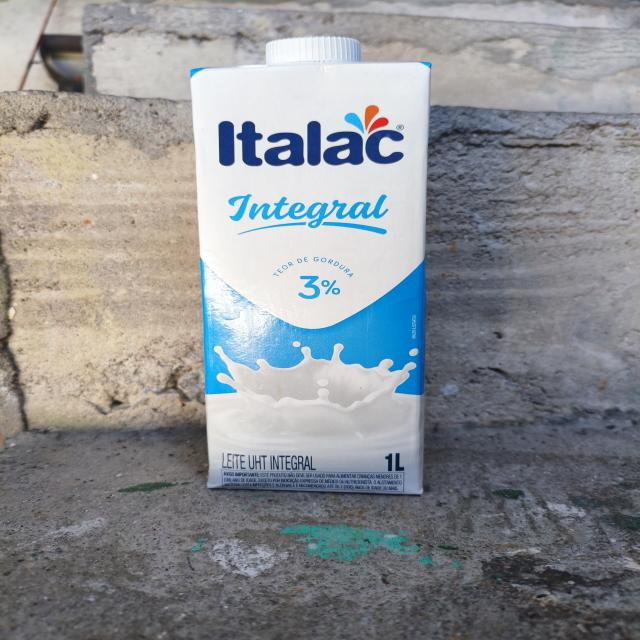Caixa de Leite: (180, 33, 442, 500)
